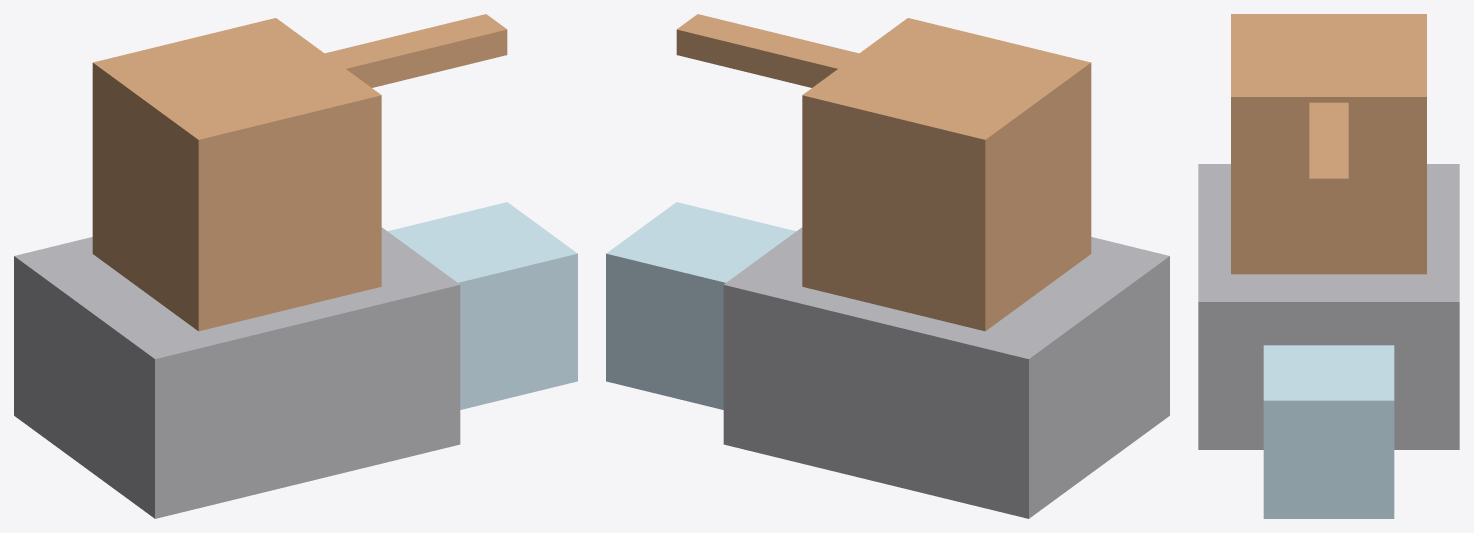
File: Prop_Water_AMF_SolarStill_V7.glb
3 views of the same model, side by side, from view 1: azimuth 30°, elevation 25°; view 2: azimuth 150°, elevation 25°; view 3: azimuth 270°, elevation 25° (orthographic). The views are drawn at different scales.
Parts seen in each view (by area): view 1: Prop_Water_AMF_SolarStill_V7; view 2: Prop_Water_AMF_SolarStill_V7; view 3: Prop_Water_AMF_SolarStill_V7.
Part boxes in pixels (x1,y1,x2,y2): Prop_Water_AMF_SolarStill_V7: (14, 14, 577, 518); Prop_Water_AMF_SolarStill_V7: (606, 14, 1169, 518); Prop_Water_AMF_SolarStill_V7: (1198, 14, 1459, 518).
Bounding box in the file's own units: 1.5 × 1.1 × 0.8.
